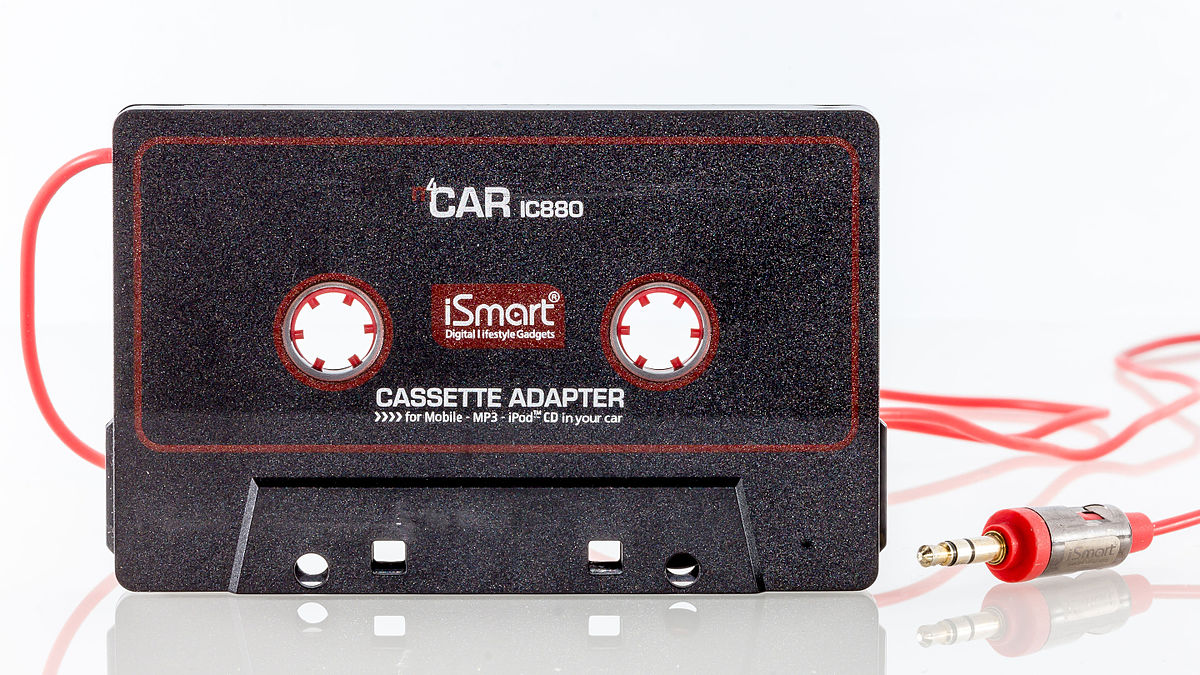Rec_Paper: (86, 83, 893, 608)
